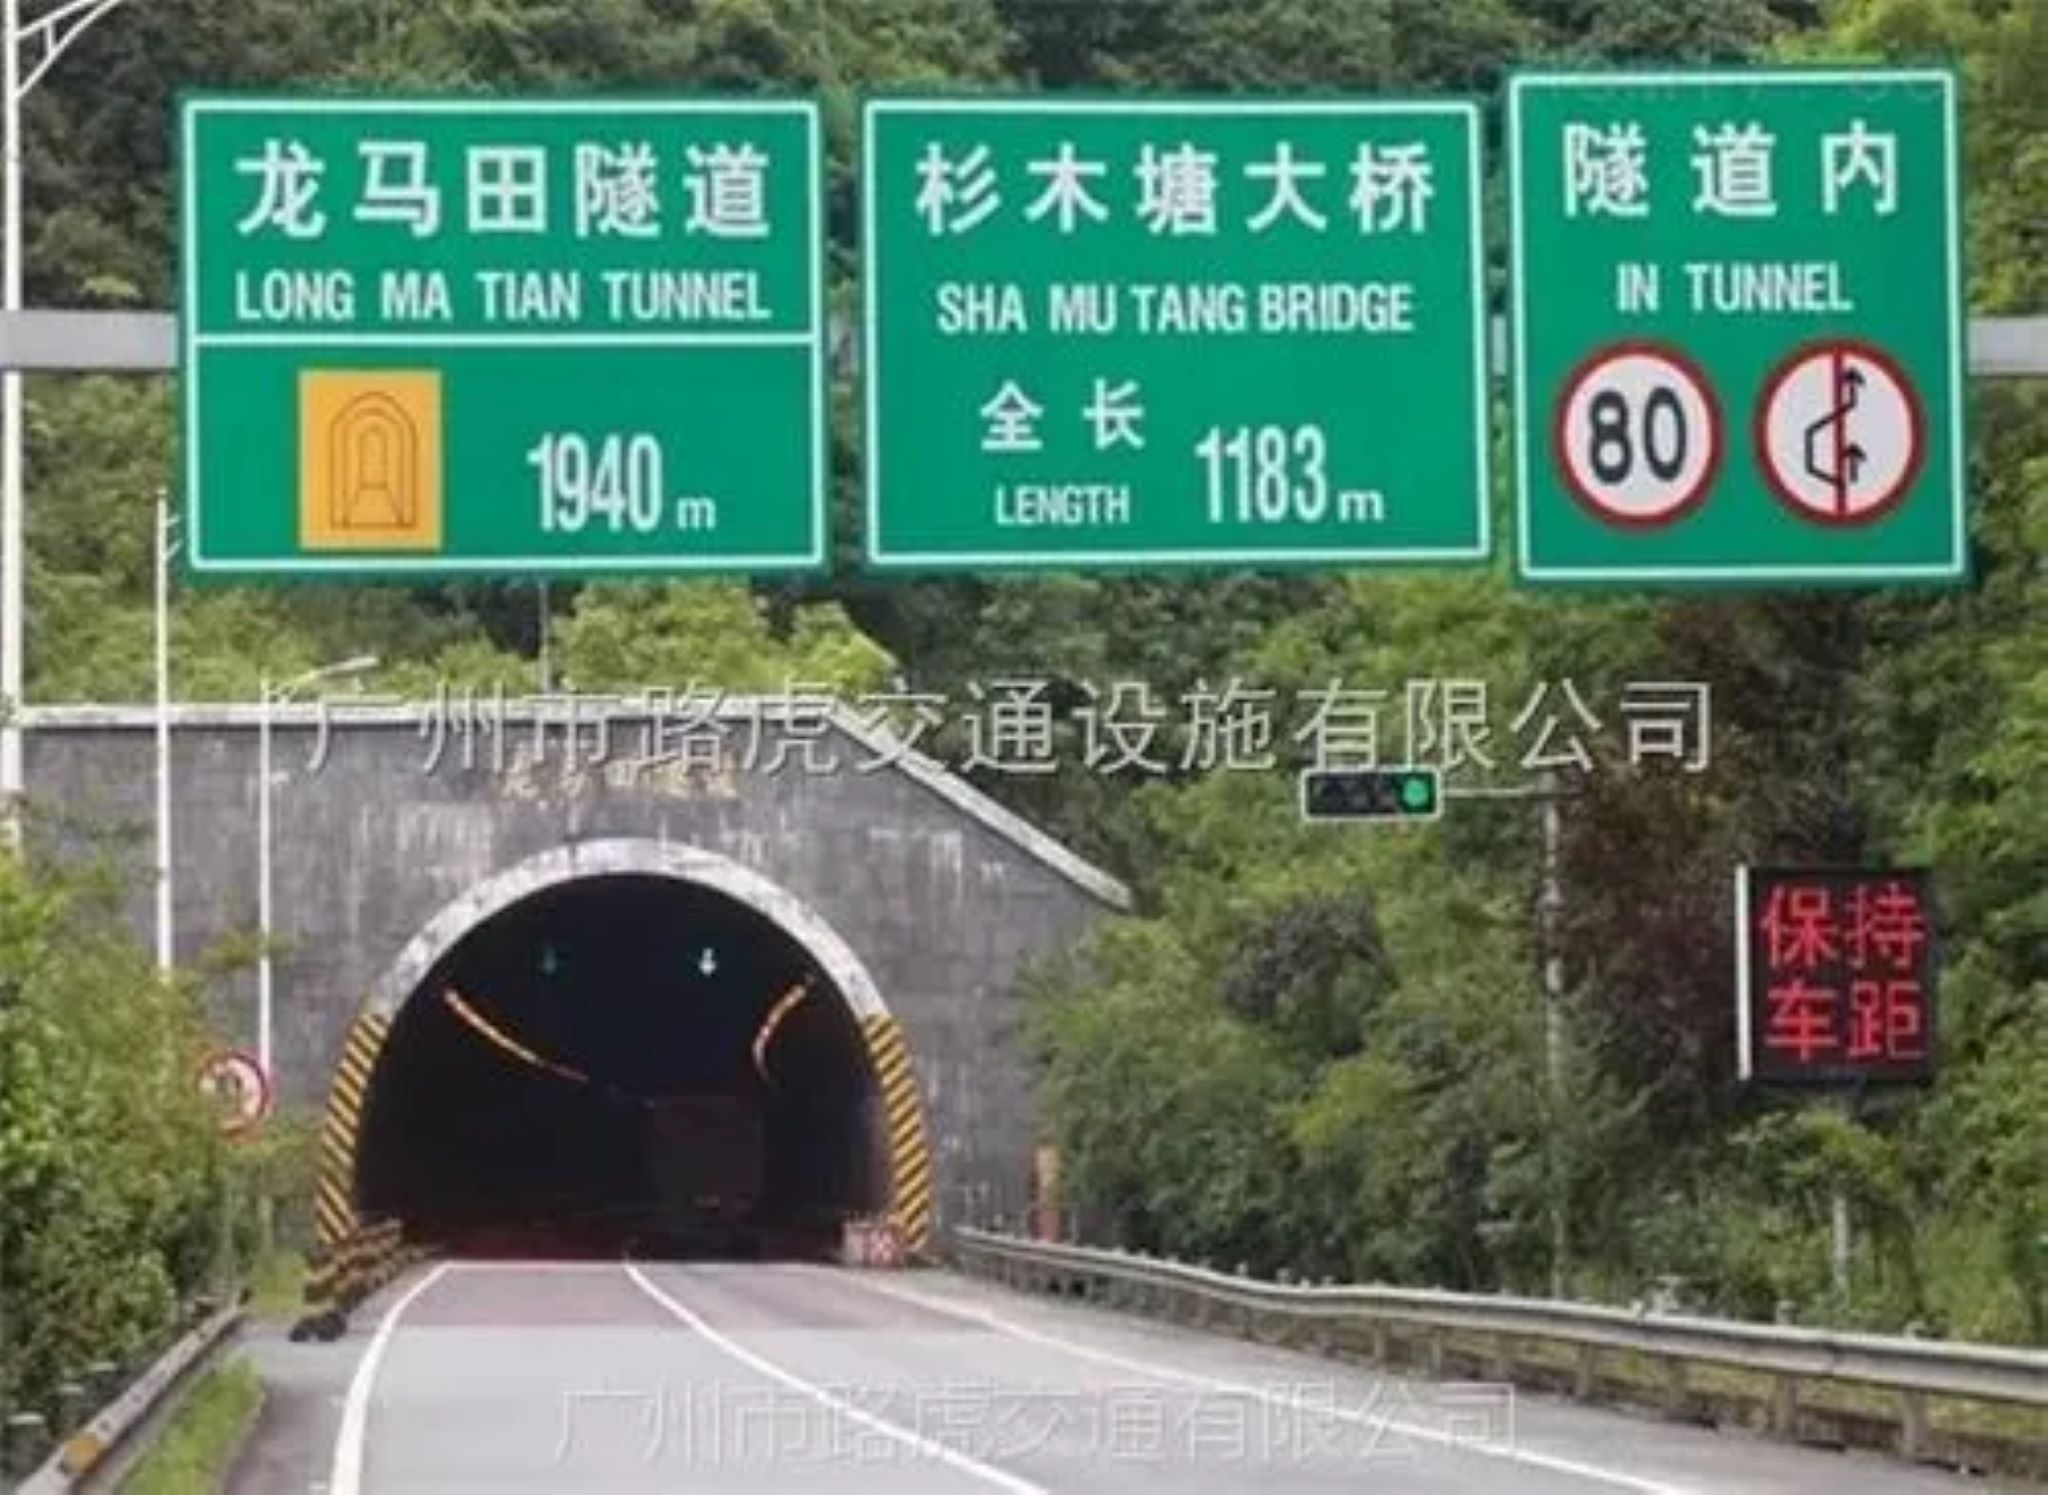p5: (180, 1054, 273, 1134)
pl80: (1555, 339, 1722, 523)
